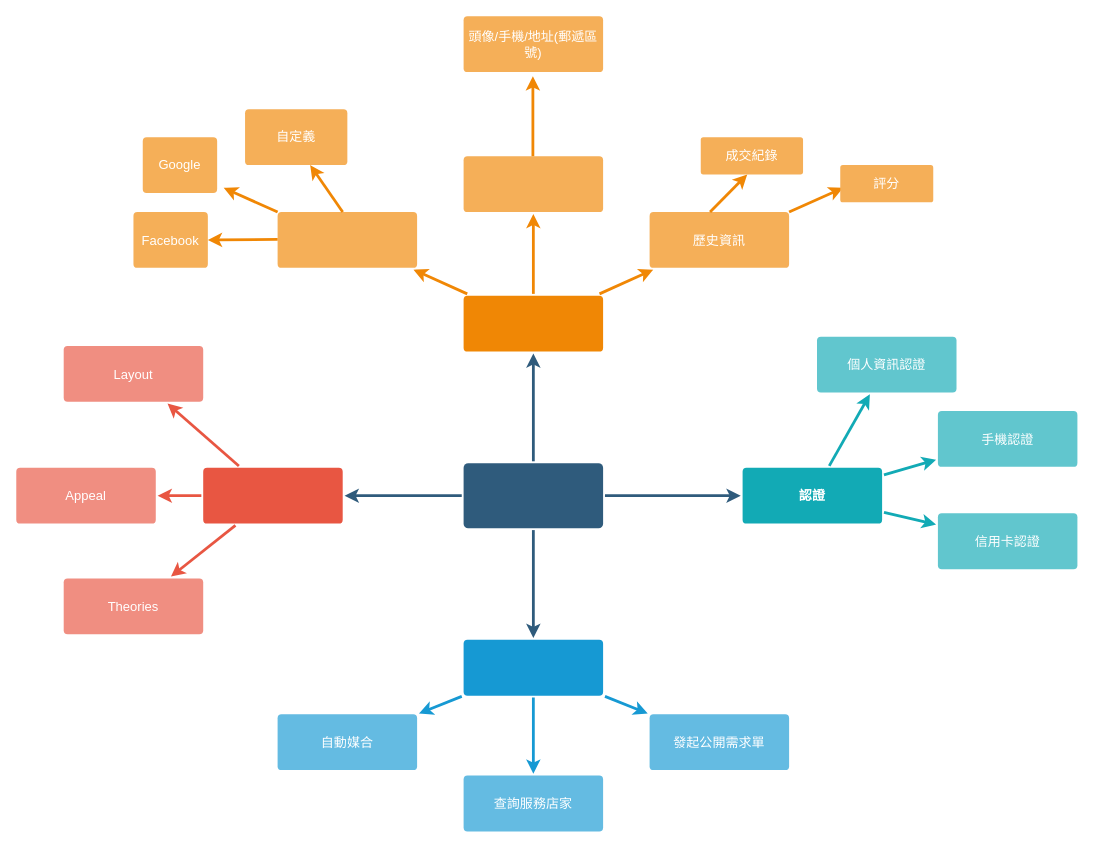
This 1093x847 diagram has some shape labels left out. Here are the shapes that lost their labels. From the top down, the centre of each, then its label:
At [533,184]: "資訊填寫".
At [347,239]: "登入".
At [533,323]: "客戶資訊頁".
At [272,495]: "Embassy".
At [533,495]: "Customer".
At [533,667]: "需求單".
